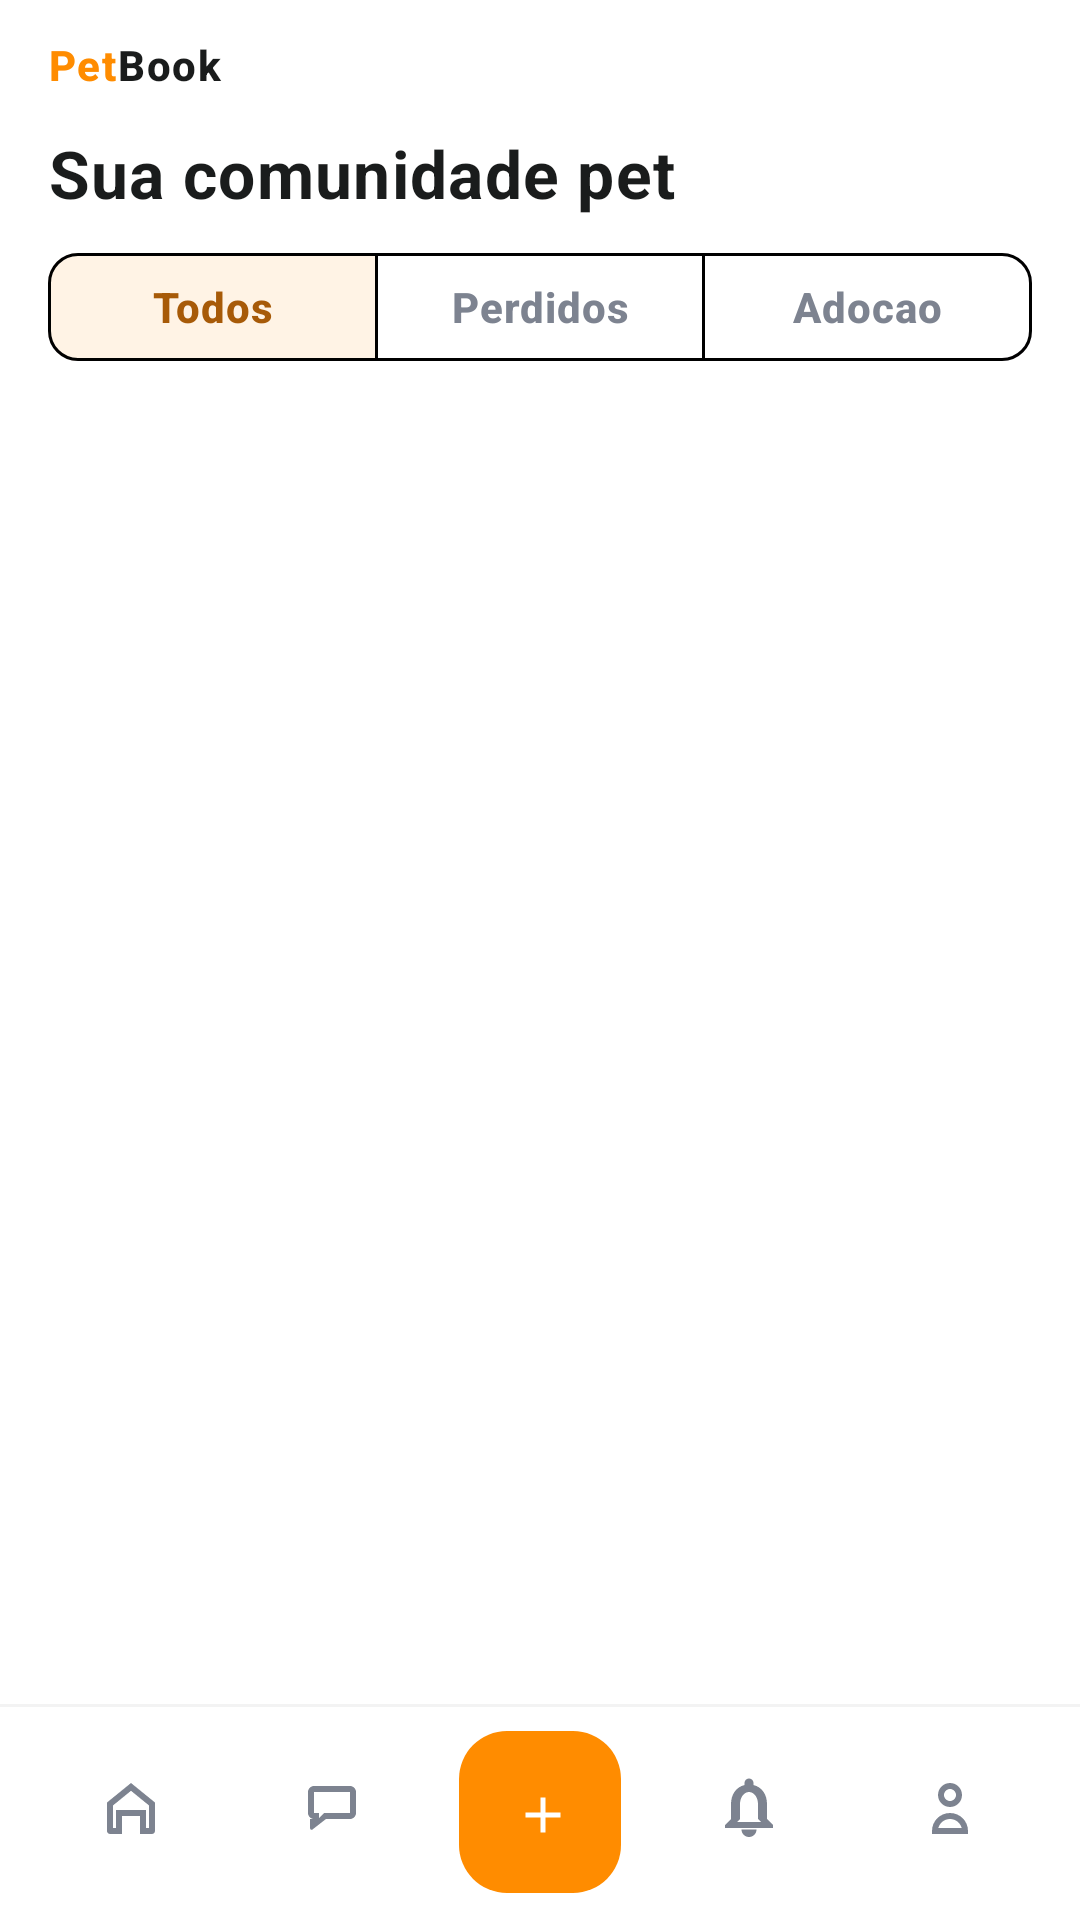

Named icons in this screenshot (1080px x 1920px) and their bounding boxes, bbox=(x1, y1, x2, y2):
Abrir conversas: bbox=(308, 1786, 356, 1830)
Abrir feed: bbox=(107, 1783, 155, 1834)
Abrir notificacoes: bbox=(725, 1778, 773, 1837)
Abrir perfil: bbox=(932, 1783, 968, 1834)
Criar Post: bbox=(459, 1731, 621, 1893)
